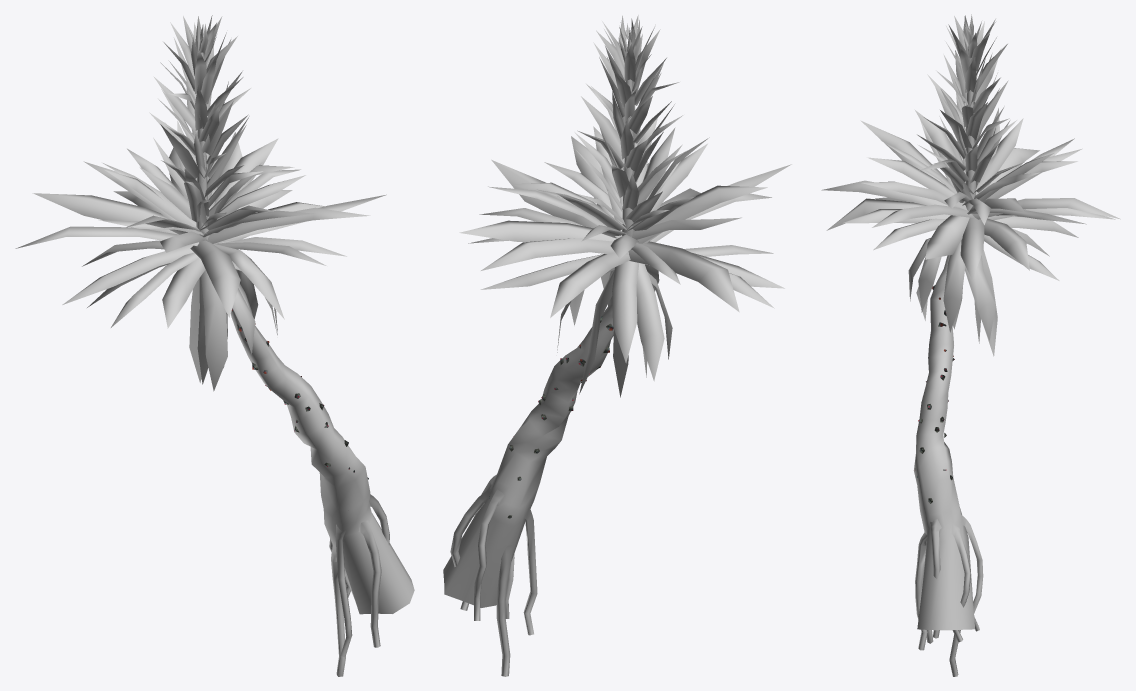
File: Plant15C_L2.fbx
3 renders of one model, left to right at view 1: azimuth 30°, elevation 25°; view 2: azimuth 150°, elevation 25°; view 3: azimuth 270°, elevation 25°, orthographic. The views are drawn at different scales.
Parts seen in each view (by area): view 1: polySurface1982; view 2: polySurface1982; view 3: polySurface1982.
Part boxes in pixels (box(x1,y1,x2,y2)): polySurface1982: box(15, 15, 414, 676); polySurface1982: box(443, 15, 791, 676); polySurface1982: box(821, 14, 1120, 676).
Size of the model in its own units: 392 by 743 by 336.
